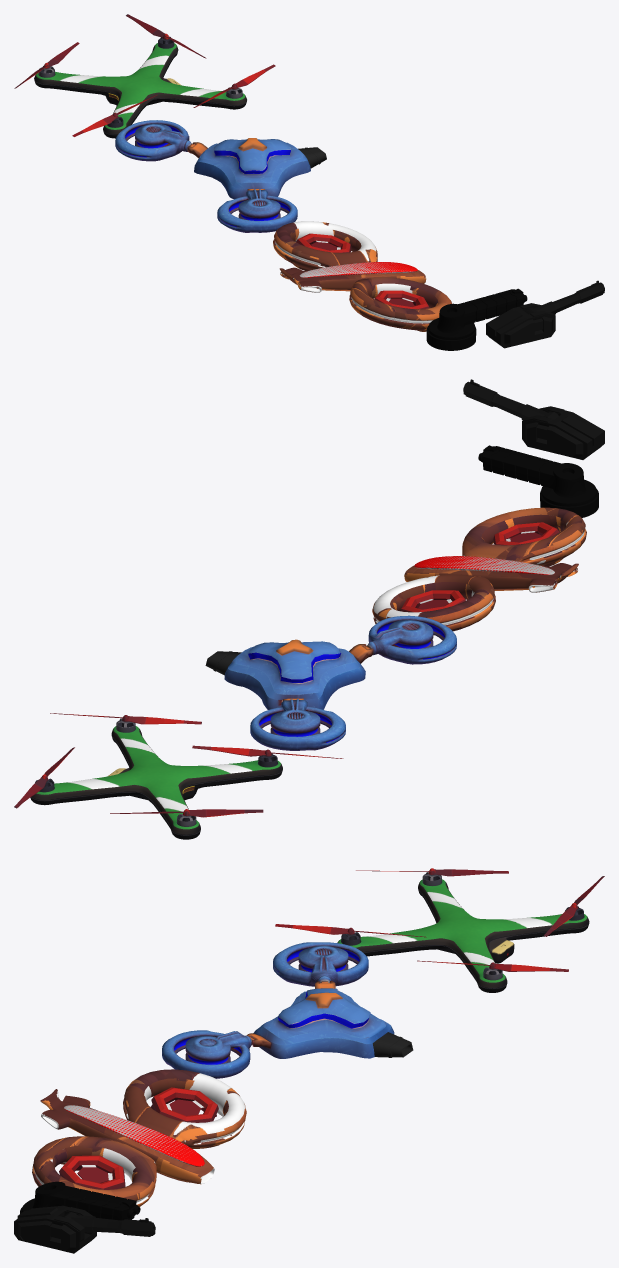
File: Drones_and_weapons.fbx
3 renders of one model, top to bottom at view 1: azimuth 30°, elevation 25°; view 2: azimuth 150°, elevation 25°; view 3: azimuth 330°, elevation 25°, orthographic. The views are drawn at different scales.
Parts seen in each view (by area): view 1: Cube, drone_body, drone_base, minigun, cannon, DRON DL-3.005, DRON DL-3.001, Cube.002, Cube.001; view 2: Cube, drone_body, drone_base, cannon, minigun, DRON DL-3.001, DRON DL-3.005, Cube.001, Cube.002, wing_1; view 3: Cube, drone_body, drone_base, cannon, DRON DL-3.001, DRON DL-3.005, minigun, Cube.002, Cube.001, wing_3, wing_4, wing_1.
Part boxes in pixels (x1,y1,x2,y2): Cube: (273, 221, 451, 331); drone_body: (34, 36, 246, 138); drone_base: (194, 138, 326, 199); minigun: (426, 288, 527, 350); cannon: (486, 280, 604, 348); DRON DL-3.005: (115, 120, 207, 161); DRON DL-3.001: (217, 189, 297, 232); Cube.002: (296, 233, 351, 252); Cube.001: (375, 290, 429, 309); Cube: (372, 507, 586, 635); drone_body: (30, 718, 282, 839); drone_base: (205, 639, 365, 709); cannon: (463, 379, 604, 459); minigun: (478, 445, 598, 517); DRON DL-3.001: (349, 615, 456, 664); DRON DL-3.005: (250, 698, 345, 750); Cube.001: (493, 522, 559, 545); Cube.002: (401, 590, 465, 612); wing_1: (110, 809, 263, 817); Cube: (32, 1069, 246, 1206); drone_body: (337, 871, 589, 992); drone_base: (253, 988, 413, 1058); cannon: (14, 1205, 155, 1253); DRON DL-3.001: (162, 1030, 271, 1078); DRON DL-3.005: (273, 942, 368, 988); minigun: (20, 1181, 140, 1220); Cube.002: (151, 1087, 218, 1122); Cube.001: (59, 1155, 125, 1189); wing_3: (417, 960, 568, 971); wing_4: (275, 924, 426, 937); wing_1: (356, 868, 508, 876).
Size of the model in its own units: 127 by 37.63 by 427.
